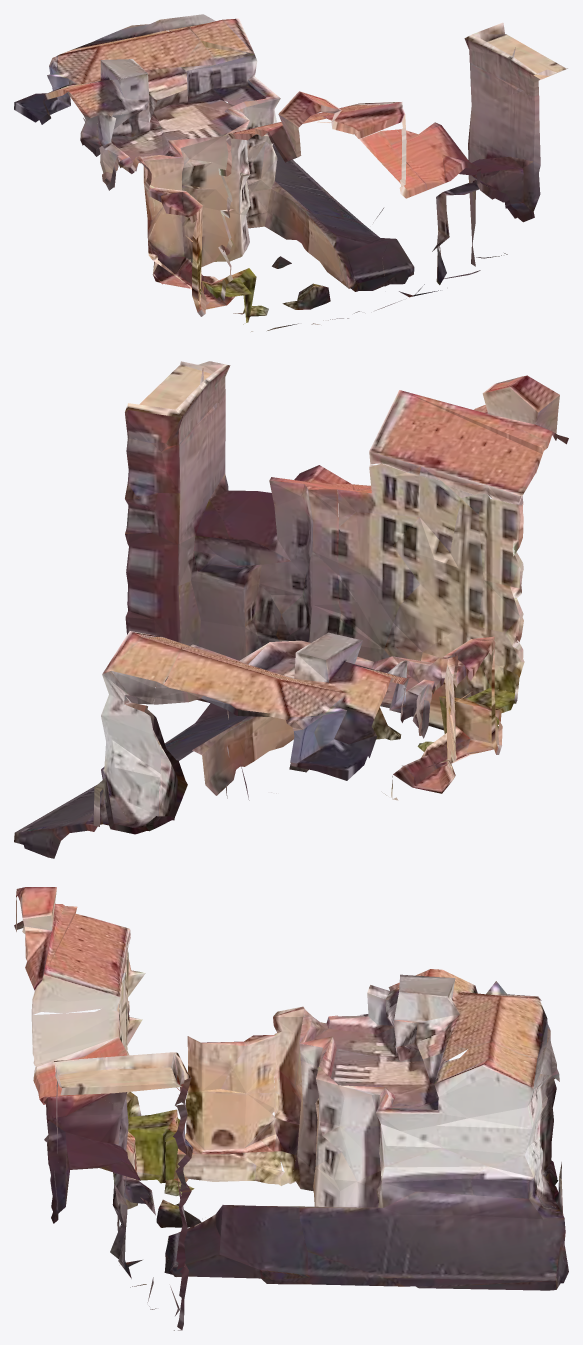
The picture shows the model from 3 angles, top to bottom: view 1: azimuth 30°, elevation 25°; view 2: azimuth 150°, elevation 25°; view 3: azimuth 270°, elevation 25°; orthographic projection. The views are drawn at different scales.
Visible parts, largest first — view 1: Mesh_0; view 2: Mesh_0; view 3: Mesh_0.
Part boxes in pixels (x1,y1,x2,y2): Mesh_0: (14, 14, 567, 331); Mesh_0: (14, 361, 568, 858); Mesh_0: (14, 887, 568, 1330).
Bounding box in the file's own units: 33.3 × 24.41 × 40.71.
2 materials, 2 textured.
